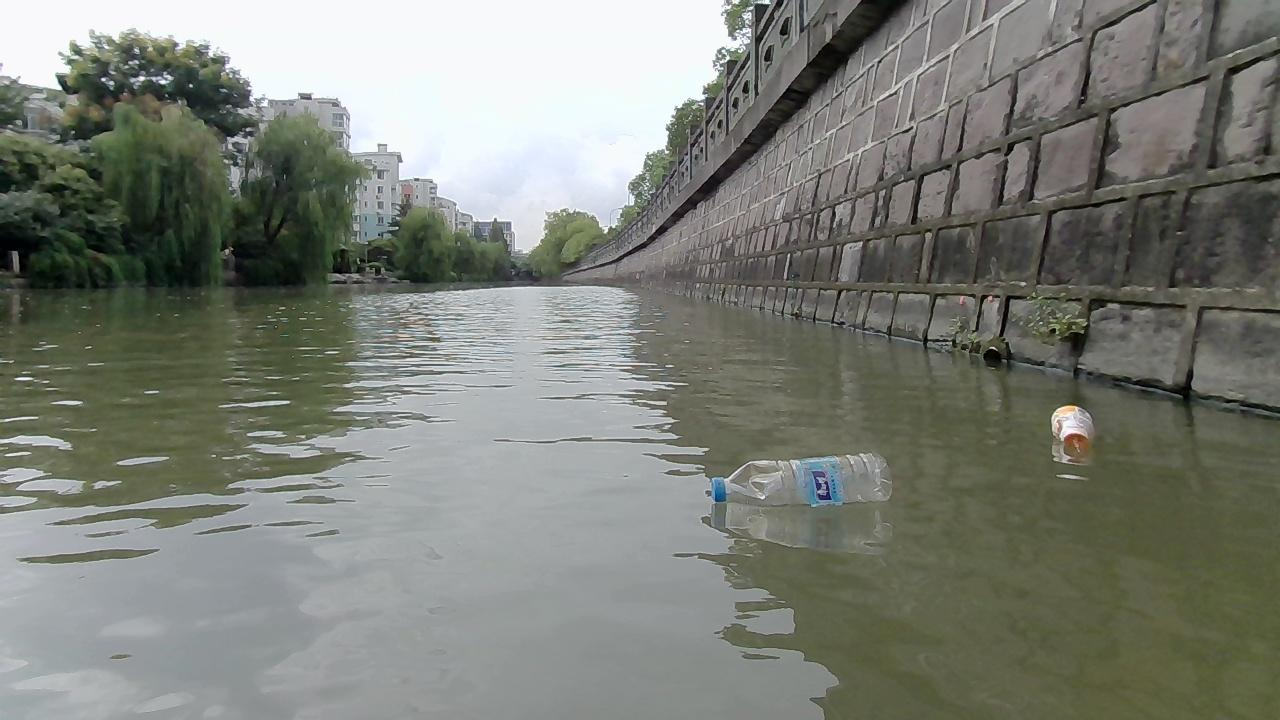bottle: (711, 449, 892, 506), (1049, 403, 1094, 451)
